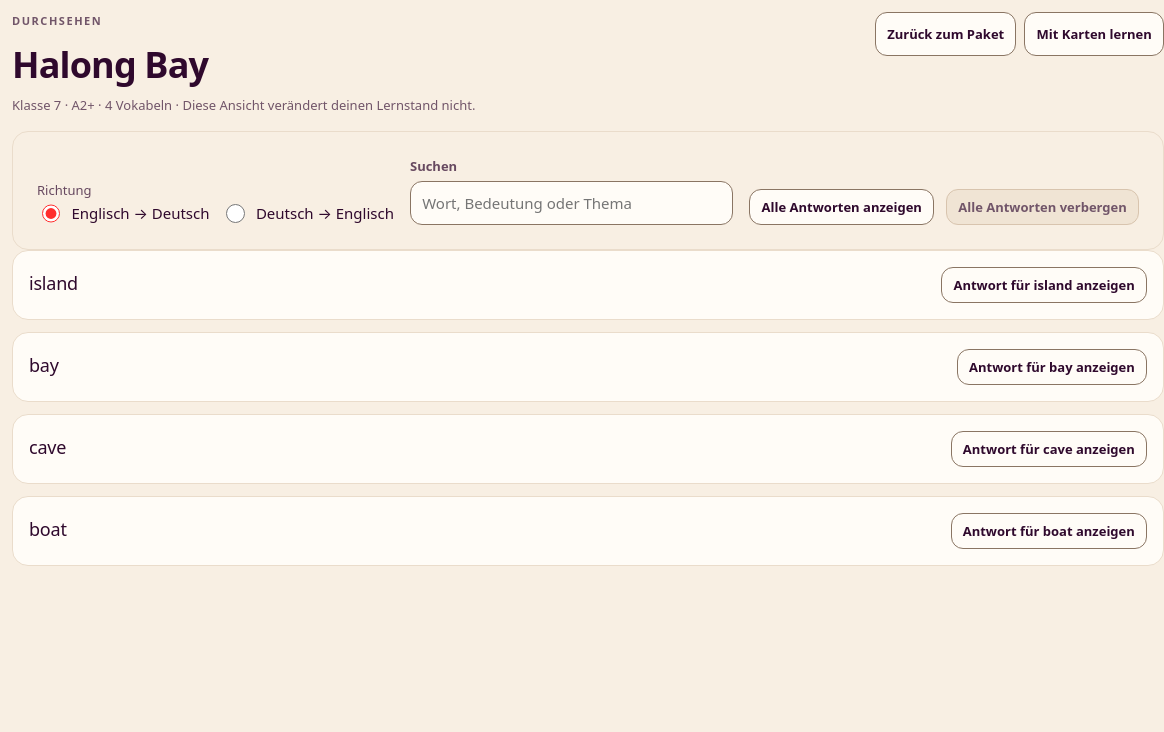
Test: Vokabeln durchsehen › lässt leere Zusatzangaben ganz weg
Click the button "Antwort für bay anzeigen" at {"x": 1052, "y": 367}, box [957,349,1147,385]
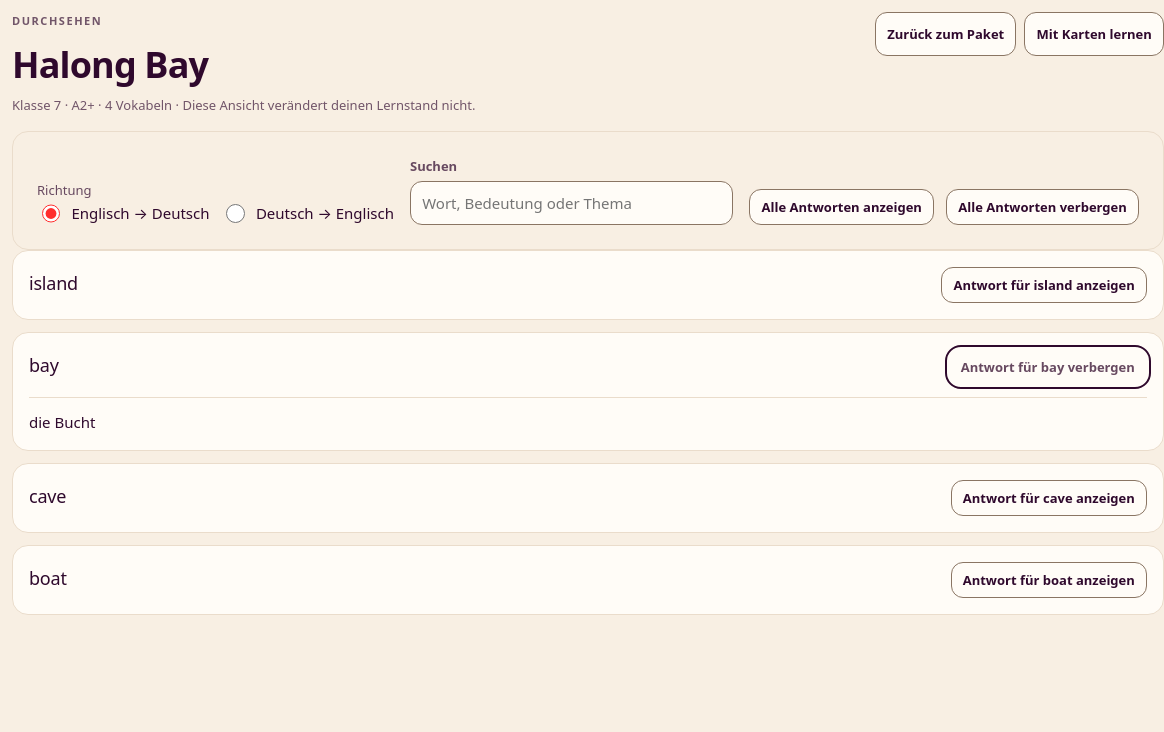
Now the text "die Bucht" is shown, box [29,410,95,434]
